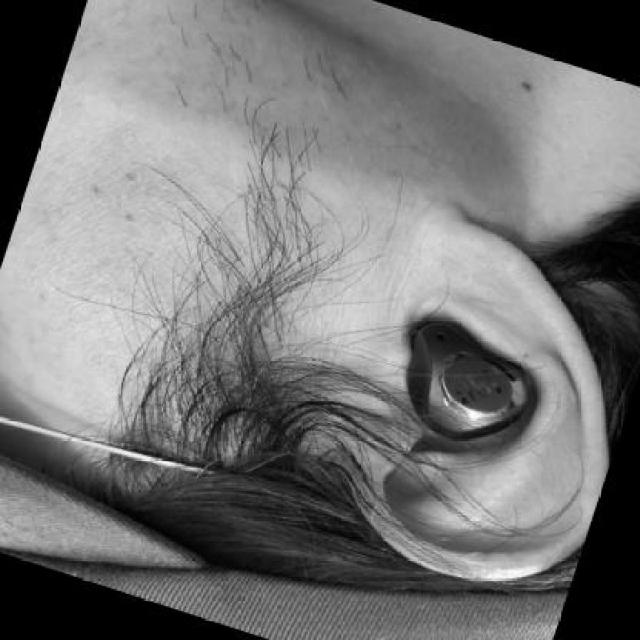earphone: (382, 323, 555, 476)
